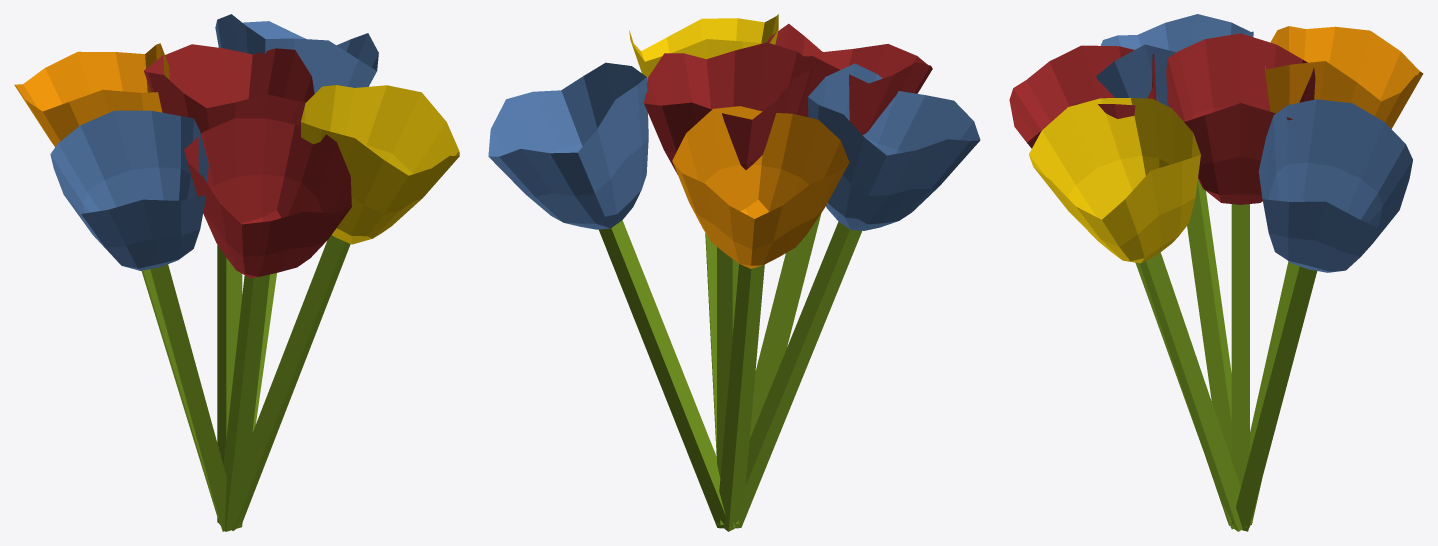
Rendered from Flowers.fbx.
3 views of the same model, side by side, from view 1: azimuth 30°, elevation 25°; view 2: azimuth 150°, elevation 25°; view 3: azimuth 270°, elevation 25° (orthographic).
Visible parts, largest first — view 1: Flowers; view 2: Flowers; view 3: Flowers.
Boxes of the visible parts, <box> form: Flowers: <box>14,14,459,531</box>; Flowers: <box>488,14,980,531</box>; Flowers: <box>1009,14,1423,531</box>.
Size of the model in its own units: 24.44 by 28.32 by 22.96.
